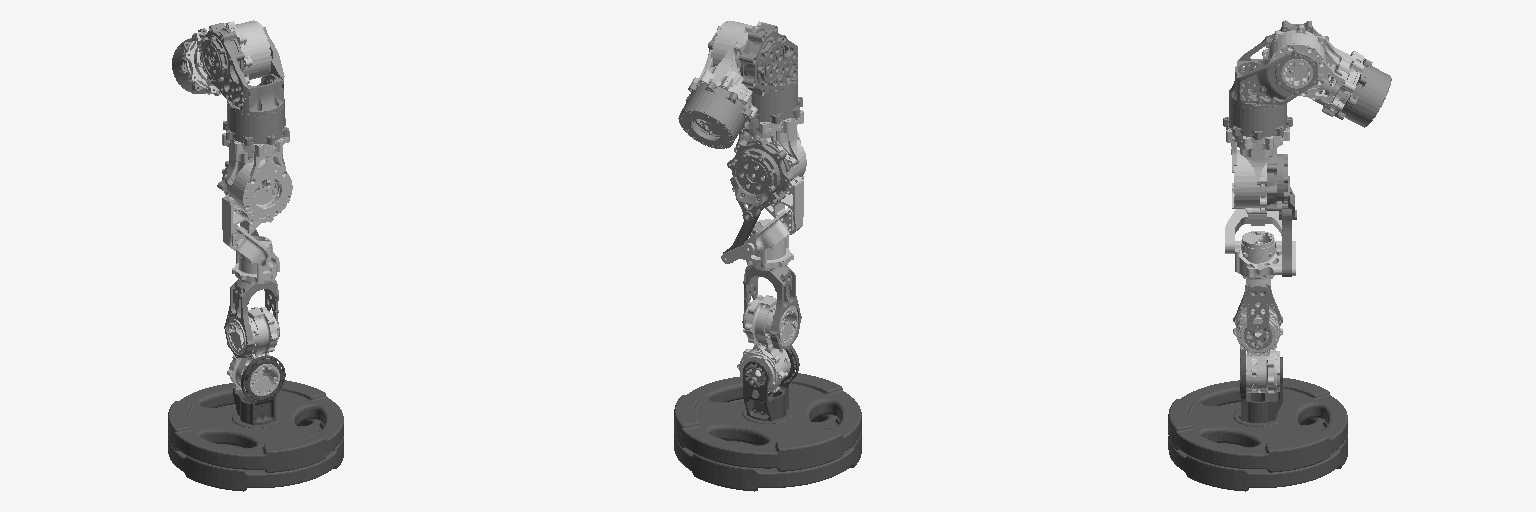
URDF robot description (raipal_stub-10_R):
<?xml version="1.0" encoding="utf-8"?>
<robot name="raipal_stub-10_R">
  <!-- [URDF-WRITER] Created with urdf-writer script (by CHH) on 2026-01-27 21:55:36.760191-->

  <!-- [URDF-WRITER] from module [_fixed-base] -->

  <!-- this link makes the robot fixed-base in RAISIM -->
  <link name="world"></link>

  <link name="base"></link>

  <joint name="base_fix" type="fixed">
    <origin xyz="0 0 0.8" rpy="0 0 0"/>
    <parent link="world" />
    <child link="base" />
    <axis xyz="0 0 0" />
  </joint>


  <!-- [URDF-WRITER] from module [raipal_R] -->

  <link name="R_base">
    <!-- CHH / 2025-09-01-20:14 -->
    <!-- link name: [R_base]-->
    <!-- frame: [R0_base]-->
    <inertial>
      <origin 
        xyz="-0.00013000 -0.06389000 -0.05559000"
        rpy="0 0 0" />
      <mass value="0.79658000" />
      <inertia
          ixx="0.00074742"
          ixy="1.892780e-6"
          ixz="-1.179560e-6"
          iyy="0.00098187"
          iyz="-0.00013334"
          izz="0.00082394" />
    </inertial>
    <visual>
      <origin
        xyz="0 0 0"
        rpy="0 0 0" />
      <geometry>
        <mesh filename="../meshes/R_base.STL" />
      </geometry>
      <material name="">
        <color rgba=".6 .6 .6 1" />
      </material>
    </visual>
    <!--<collision>
      <origin
        xyz="0 0 0"
        rpy="0 0 0" />
      <geometry>
        <mesh filename="../meshes/R_base.STL" />
      </geometry>
    </collision>-->
  </link>

  <joint name="R_fix" type="fixed">
    <origin xyz="0 0 0" rpy="0 0 0"/>
    <parent link="base" />
    <child link="R_base" />
    <axis xyz="0 0 0" />
  </joint>

  <link name="R_collar">
    <!-- CHH / 2025-09-01-20:14 -->
    <!-- link name: [R_collar]-->
    <!-- frame: [R1_flexion]-->
    <inertial>
      <origin 
        xyz="0.00471000 -1.000000e-5 0.10057000"
        rpy="0 0 0" />
      <mass value="1.72283000" />
      <inertia
          ixx="0.00466072"
          ixy="5.127800e-7"
          ixz="-0.00028338"
          iyy="0.00434837"
          iyz="8.010400e-7"
          izz="0.00167296" />
    </inertial>
    <visual>
      <origin
        xyz="0 0 0"
        rpy="0 0 0" />
      <geometry>
        <mesh filename="../meshes/R_collar.STL" />
      </geometry>
      <material name="">
        <color rgba="0.8 0.8 0.8 1" />
      </material>
    </visual>
    <!--<collision>
      <origin
        xyz="0 0 0"
        rpy="0 0 0" />
      <geometry>
        <mesh filename="../meshes/R_collar.STL" />
      </geometry>
    </collision>-->
  </link>

  <joint name="R1_flexion" type="revolute"> <!--[0]-->
    <origin
      xyz="0 -0.037198 -0.0709"
      rpy="1.0472 0 0" />
    <parent link="R_base" />
    <child link="R_collar" />
    <axis
      xyz="0 0 1" />
    <limit
      lower="-1.57"
      upper="3.14"
      effort="181"
      velocity="13.9" />
    <dynamics rotor_inertia = "0.0576402034658611" /> <!-- CHH / 2025-09-01-20:30-->
  </joint>

  <link name="R_shoulder">
    <!-- CHH / 2025-09-01-20:14 -->
    <!-- link name: [R_shoulder]-->
    <!-- frame: [R2_adduction]-->
    <inertial>
      <origin 
        xyz="-0.03309000 0.04277000 0.04408000"
        rpy="0 0 0" />
      <mass value="1.92988000" />
      <inertia
          ixx="0.00554587"
          ixy="0.00224326"
          ixz="-0.00046924"
          iyy="0.00422168"
          iyz="0.00058524"
          izz="0.00699049" />
    </inertial>
    <visual>
      <origin
        xyz="0 0 0"
        rpy="0 0 0" />
      <geometry>
        <mesh filename="../meshes/R_shoulder.STL" />
      </geometry>
      <material name="">
        <color rgba="0.6 0.6 0.6 1" />
      </material>
    </visual>
    <!--<collision>
      <origin
        xyz="0 0 0"
        rpy="0 0 0" />
      <geometry>
        <mesh filename="../meshes/R_shoulder.STL" />
      </geometry>
    </collision>-->
  </link>

  <joint name="R2_adduction" type="revolute"> <!--[1]-->
    <origin
      xyz="0.0373 0 0.1418"
      rpy="-1.5707963267949 1.0472 1.5707963267949" />
    <parent link="R_collar" />
    <child link="R_shoulder" />
    <axis
      xyz="0 0 -1" />
    <limit
      lower="-2.618"
      upper="0.488"
      effort="181"
      velocity="13.9" />
    <dynamics rotor_inertia = "0.0576402034658611" /> <!-- CHH / 2025-09-01-20:30-->
  </joint>

  <link name="R_humerus">
    <!-- CHH / 2025-09-01-20:14 -->
    <!-- link name: [R_humerus]-->
    <!-- frame: [R3_rotation]-->
    <inertial>
      <origin 
        xyz="-0.00369000 0.00351000 0.11625000"
        rpy="0 0 0" />
      <mass value="1.96262000" />
      <inertia
          ixx="0.00777442"
          ixy="-1.197057e-5"
          ixz="0.00065917"
          iyy="0.00822155"
          iyz="-0.00015972"
          izz="0.00201683" />
    </inertial>
    <visual>
      <origin
        xyz="0 0 0"
        rpy="0 0 0" />
      <geometry>
        <mesh filename="../meshes/R_humerus.STL" />
      </geometry>
      <material name="">
        <color rgba="0.8 0.8 0.8 1" />
      </material>
    </visual>
    <!--<collision>
      <origin
        xyz="0 0 0"
        rpy="0 0 0" />
      <geometry>
        <mesh filename="../meshes/R_humerus.STL" />
      </geometry>
    </collision>-->
  </link>

  <joint name="R3_rotation" type="revolute"> <!--[2]-->
    <origin
      xyz="-0.06 0.06025 0.0373"
      rpy="-1.5707963267949 1.5707963267949 0" />
    <parent link="R_shoulder" />
    <child link="R_humerus" />
    <axis
      xyz="0 0 -1" />
    <limit
      lower="-3.14"
      upper="3.14"
      effort="181"
      velocity="13.9" />
    <dynamics rotor_inertia = "0.0576402034658611" /> <!-- CHH / 2025-09-01-20:30-->
  </joint>

  <link name="R_elb_input">
    <!-- CHH / 2025-09-01-20:14 -->
    <!-- link name: [R_elb_input]-->
    <!-- frame: [R4a_elbow_power]-->
    <inertial>
      <origin 
        xyz="-2.000000e-5 0.00335000 0.05897000"
        rpy="0 0 0" />
      <mass value="0.83412000" />
      <inertia
          ixx="0.00071114"
          ixy="7.660000e-7"
          ixz="-9.255500e-7"
          iyy="0.00059983"
          iyz="-5.504818e-5"
          izz="0.00080767" />
    </inertial>
    <visual>
      <origin
        xyz="0 0 0"
        rpy="0 0 0" />
      <geometry>
        <mesh filename="../meshes/R_elb_input.STL" />
      </geometry>
      <material name="">
        <color rgba="0.6 0.6 0.6 1" />
      </material>
    </visual>
    <!--<collision>
      <origin
        xyz="0 0 0"
        rpy="0 0 0" />
      <geometry>
        <mesh filename="../meshes/R_elb_input.STL" />
      </geometry>
    </collision>-->
  </link>

  <joint name="R4a_elbow_power" type="revolute"> <!--[3]-->
    <origin
      xyz="0 0.0373 0.1418"
      rpy="1.5707963267949 0 0" />
    <parent link="R_humerus" />
    <child link="R_elb_input" />
    <axis
      xyz="0 0 1" />
    <limit
      lower="0"
      upper="1.556"
      effort="181"
      velocity="13.9" />
    <dynamics rotor_inertia = "0.0576402034658611" /> <!-- CHH / 2025-09-01-20:30-->
  </joint>

  <link name="R_elb_bar">
    <!-- CHH / 2025-09-01-20:14 -->
    <!-- link name: [R_elb_bar]-->
    <!-- frame: [R4b_elbow_bar_input]-->
    <inertial>
      <origin 
        xyz="0.04274000 0.00159000 -4.000000e-5"
        rpy="0 0 0" />
      <mass value="0.05314000" />
      <inertia
          ixx="2.335610e-6"
          ixy="0.0"
          ixz="0.0"
          iyy="6.149582e-5"
          iyz="-3.110000e-9"
          izz="6.199993e-5" />
    </inertial>
    <visual>
      <origin
        xyz="0 0 0"
        rpy="0 0 0" />
      <geometry>
        <mesh filename="../meshes/R_elb_bar.STL" />
      </geometry>
      <material name="">
        <color rgba="0.5 0.5 0.5 1" />
      </material>
    </visual>
    <!--<collision>
      <origin
        xyz="0 0 0"
        rpy="0 0 0" />
      <geometry>
        <mesh filename="../meshes/R_elb_bar.STL" />
      </geometry>
    </collision>-->
  </link>

  <joint name="R4b_elbow_bar_input" type="revolute"> <!--[4-unpowered]-->
    <origin
      xyz="0.00134978286029327 0.0599848154638326 0.0812119041053838"
      rpy="0 0 1.12941902735751" />
    <parent link="R_elb_input" />
    <child link="R_elb_bar" />
    <axis
      xyz="0 0 -1" />
    <limit
      lower="0"
      upper="1.802"
      effort="0"
      velocity="100" />
  </joint>

  <link name="R_ulna">
    <!-- CHH / 2025-09-01-20:14 -->
    <!-- link name: [R_ulna]-->
    <!-- frame: [R4_elbow]-->
    <inertial>
      <origin 
        xyz="0.00533000 0.01576000 -0.03891000"
        rpy="0 0 0" />
      <mass value="0.36947000" />
      <inertia
          ixx="0.00032310"
          ixy="-1.385696e-5"
          ixz="-4.244104e-5"
          iyy="0.00036383"
          iyz="-5.919040e-6"
          izz="0.00020708" />
    </inertial>
    <visual>
      <origin
        xyz="0 0 0"
        rpy="0 0 0" />
      <geometry>
        <mesh filename="../meshes/R_ulna.STL" />
      </geometry>
      <material name="">
        <color rgba="0.8 0.8 0.8 1" />
      </material>
    </visual>
    <!--<collision>
      <origin
        xyz="0 0 0"
        rpy="0 0 0" />
      <geometry>
        <mesh filename="../meshes/R_ulna.STL" />
      </geometry>
    </collision>-->
  </link>

  <joint name="R4_elbow" type="revolute"> <!--[5-unpowered]-->
    <origin
      xyz="0 -0.0439119041053754 0.25475"
      rpy="1.5707963267949 0 0" />
    <parent link="R_humerus" />
    <child link="R_ulna" />
    <axis
      xyz="0 0 -1" />
    <limit
      lower="0"
      upper="2.2689"
      effort="0"
      velocity="100" />
  </joint>

  <link name="R_radius">
    <!-- CHH / 2025-09-01-20:14 -->
    <inertial>
      <origin 
        xyz="0.00151000 0.0 0.10290000"
        rpy="0 0 0" />
      <mass value="0.42307000" />
      <inertia
          ixx="0.00112662"
          ixy="-1.975000e-8"
          ixz="-5.589578e-5"
          iyy="0.00120471"
          iyz="1.556000e-8"
          izz="0.00024138" />
    </inertial>
    <visual>
      <origin
        xyz="0 0 0"
        rpy="0 0 0" />
      <geometry>
        <mesh filename="../meshes/R_radius.STL" />
      </geometry>
      <material name="">
        <color rgba="0.6 0.6 0.6 1" />
      </material>
    </visual>
    <!--</collision>
      <origin
        xyz="0 0 0"
        rpy="0 0 0" />
      <geometry>
        <mesh filename="../meshes/R_radius.STL" />
      </geometry>
    </collision>-->
  </link>

  <joint name="R5_roll" type="revolute">  <!--[6]-->
    <origin
      xyz="0 -0.0135819531869474 -0.0439119041053754"
      rpy="-1.5707963267949 0 0" />
    <parent link="R_ulna" />
    <child link="R_radius" />
    <axis
      xyz="0 0 -1" />
    <limit
      lower="-1.57"
      upper="1.57"
      effort="12.61"
      velocity="53.8" />
    <dynamics rotor_inertia = "0.000540543349430043" /> <!-- CHH / 2025-09-01-20:30-->
  </joint>

  <link name="R_carpal">
    <!-- CHH / 2025-09-01-20:14 -->
    <inertial>
      <origin 
        xyz="-0.00117000 0.03421000 0.02964000"
        rpy="0 0 0" />
      <mass value="0.67981000" />
      <inertia
          ixx="0.00128813"
          ixy="3.134577e-5"
          ixz="3.268690e-6"
          iyy="0.00040998"
          iyz="-9.323146e-5"
          izz="0.00126953" />
    </inertial>
    <visual>
      <origin
        xyz="0 0 0"
        rpy="0 0 0" />
      <geometry>
        <mesh filename="../meshes/R_carpal.STL" />
      </geometry>
      <material name="">
        <color rgba="0.8 0.8 0.8 1" />
      </material>
    </visual>
    <!--</collision>
      <origin
        xyz="0 0 0"
        rpy="0 0 0" />
      <geometry>
        <mesh filename="../meshes/R_carpal.STL" />
      </geometry>
    </collision>-->
  </link>

  <joint name="R6_pitch" type="revolute">  <!--[7]-->
    <origin
      xyz="-0.0337 0 0.153581953186935"
      rpy="1.5707963267949 0 1.5707963267949" />
    <parent link="R_radius" />
    <child link="R_carpal" />
    <axis
      xyz="0 0 1" />
    <limit
      lower="-2.0944"
      upper="2.0944"
      effort="12.61"
      velocity="53.8" />
    <dynamics rotor_inertia = "0.000540543349430043" /> <!-- CHH / 2025-09-01-20:30-->
  </joint>

  <link name="R_ee">
    <!-- CHH / 2025-09-01-20:14 -->
    <inertial>
      <origin 
        xyz="0.0 0.0 0.04531000"
        rpy="0 0 0" />
      <mass value="0.13143000" />
      <inertia
          ixx="3.339173e-5"
          ixy="0.0"
          ixz="0.0"
          iyy="3.339173e-5"
          iyz="0.0"
          izz="4.133016e-5" />
    </inertial>
    <visual>
      <origin
        xyz="0 0 0"
        rpy="0 0 0" />
      <geometry>
        <mesh filename="../meshes/R_ee.STL" />
      </geometry>
      <material name="">
        <color rgba="0.6 0.6 0.6 1" />
      </material>
    </visual>
    <!--</collision>
      <origin
        xyz="0 0 0"
        rpy="0 0 0" />
      <geometry>
        <mesh filename="../meshes/R_ee.STL" />
      </geometry>
    </collision>-->
  </link>

  <joint name="R7_yaw" type="revolute">  <!--[8]-->
    <origin
      xyz="0.0264 0.073 0.0337"
      rpy="0 -1.5707963267949 0" />
    <parent link="R_carpal" />
    <child link="R_ee" />
    <axis
      xyz="0 0 -1" />
    <limit
      lower="-1.57079"
      upper="1.57079"
      effort="12.61"
      velocity="53.8" />
    <dynamics rotor_inertia = "0.000540543349430043" /> <!-- CHH / 2025-09-01-20:30-->
  </joint>

  <!-- Imaginary links for loop closure -->
  <link name="R_loop_barside"></link>

  <joint name="R4cA_elbow_loop_bar" type="fixed">
    <origin
      xyz="0.0854747786370337 0 0"
      rpy="0 0 0" />
    <parent link="R_elb_bar" />
    <child link="R_loop_barside" />
    <axis
      xyz="0 0 1" />
    <!-- relaxed limits since others are constrained -->
    <limit
      lower="-3.14"
      upper="3.14"
      effort="0"
      velocity="100" />
  </joint>

  <link name="R_loop_ulnaside"></link>

  <joint name="R4cB_elbow_loop_ulna_fixed" type="fixed">
    <origin
      xyz="0.0378633410992504 0.0243180468130526 0"
      rpy="0 0 1.12941902735751" />
    <parent link="R_ulna" />
    <child link="R_loop_ulnaside" />
    <axis
      xyz="0 0 0" />
  </joint>

  
  <!-- [URDF-WRITER] from module [stub-10_R] -->
  <link name="R_stub">
    <!-- CHH / 2025-10-17-16:12 -->
    <!-- link name: [stub-10]-->
    <!-- frame: [RE_end-effector]-->
    <inertial>
      <origin 
        xyz="4.000000e-5 -0.10515000 0.02631000"
        rpy="0 0 0" />
      <mass value="10.52298000" />
      <inertia
          ixx="0.05836641"
          ixy="1.193012e-5"
          ixz="-3.170800e-7"
          iyy="0.10652337"
          iyz="0.00011810"
          izz="0.05832640" />
    </inertial>
    <visual>
      <origin
        xyz="0 0 0"
        rpy="0 0 0" />
      <geometry>
        <mesh filename="../meshes/stub_10.STL" />
      </geometry>
      <material name="">
        <color rgba="0.4 0.4 0.4 1" />
      </material>
    </visual>
  </link>

  <joint name="RE_end_effector_fixed" type="fixed">
    <origin
      xyz="0 0 0"
      rpy="0 0 3.141592" />
    <parent link="R_ee" />
    <child link="R_stub" />
    <axis
      xyz="0 0 0" />
  </joint>


  <link name="R_stub-tip"></link>

  <joint name="RE_tip_fixed" type="fixed">
    <origin
      xyz="0 -0.157 0.0264"
      rpy="-1.5708 0 3.141592" />
    <parent link="R_stub" />
    <child link="R_stub-tip" />
    <axis
      xyz="0 0 0" />
  </joint>
  <!-- [URDF-WRITER] merged constraints -->
  <constraints nominal_config="0 0 0 0 0 0 0 0 0 0 0 0 0 0 0 0 0 0 0 0 0">
    <pin body1="R_loop_barside" body2="R_loop_ulnaside" anchor="0.0 0.0 0.0"/>
  </constraints>

</robot>

--- Facts derived from the render (not from the file) ---
The picture shows the robot from 3 angles, left to right: view 1: azimuth 30°, elevation 25°; view 2: azimuth 150°, elevation 25°; view 3: azimuth 270°, elevation 25°; orthographic projection.
Robot: raipal_stub-10_R — 16 links, 15 joints (9 revolute, 6 fixed); root link world; default pose: every joint at zero.
Visible links, largest first — view 1: R_stub, R_humerus, R_shoulder, R_carpal, R_collar, R_radius, R_ulna, R_base; view 2: R_stub, R_shoulder, R_humerus, R_elb_input, R_base, R_carpal, R_collar, R_radius, R_ulna; view 3: R_stub, R_shoulder, R_collar, R_humerus, R_carpal, R_ulna, R_base, R_radius, R_elb_input, R_elb_bar.
Boxes of the visible links, bbox=[...] form: R_stub: bbox=[168, 355, 343, 491]; R_humerus: bbox=[222, 131, 292, 268]; R_shoulder: bbox=[199, 23, 288, 145]; R_carpal: bbox=[227, 307, 279, 395]; R_collar: bbox=[182, 20, 271, 94]; R_radius: bbox=[224, 279, 279, 357]; R_ulna: bbox=[232, 236, 279, 284]; R_base: bbox=[172, 28, 221, 95]; R_stub: bbox=[674, 346, 861, 491]; R_shoulder: bbox=[708, 23, 802, 123]; R_humerus: bbox=[734, 110, 806, 254]; R_elb_input: bbox=[727, 138, 793, 221]; R_base: bbox=[678, 81, 752, 148]; R_carpal: bbox=[737, 295, 797, 394]; R_collar: bbox=[692, 21, 763, 118]; R_radius: bbox=[742, 265, 801, 349]; R_ulna: bbox=[721, 219, 793, 271]; R_stub: bbox=[1168, 349, 1347, 491]; R_shoulder: bbox=[1223, 20, 1328, 139]; R_collar: bbox=[1262, 25, 1363, 116]; R_humerus: bbox=[1225, 127, 1289, 253]; R_carpal: bbox=[1233, 303, 1282, 394]; R_ulna: bbox=[1235, 231, 1295, 279]; R_base: bbox=[1334, 58, 1391, 127]; R_radius: bbox=[1233, 279, 1282, 349]; R_elb_input: bbox=[1267, 154, 1296, 219]; R_elb_bar: bbox=[1282, 209, 1291, 276].
Bounding box of the posed robot: 0.2759 × 0.3429 × 0.7385 m (x, y, z).
Meshes: 11 distinct files referenced, 11 mesh visuals loaded (11 binary STL).
